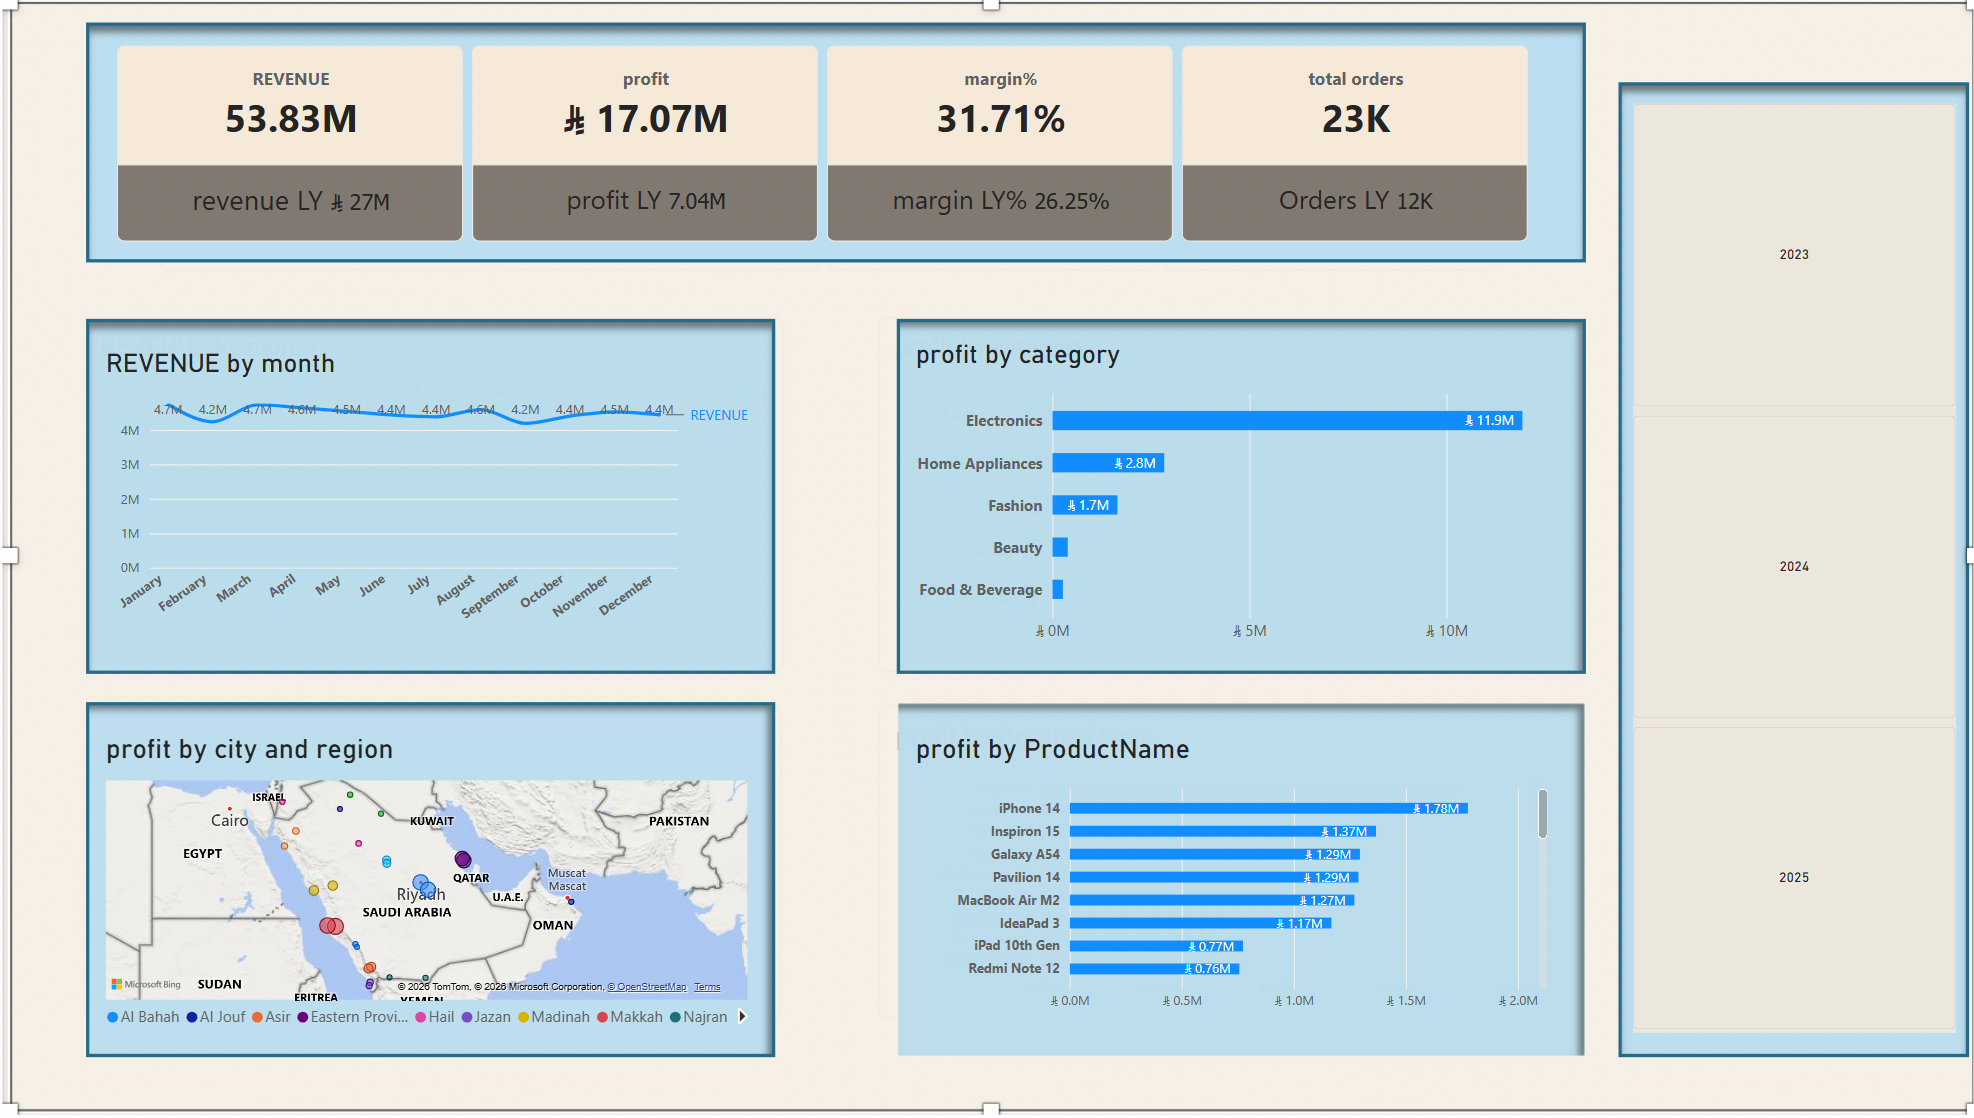

This screenshot's page, from the dashboard's own definition file:
{"tool":"powerbi","page":{"name":"Page 2","canvas":[1920,1080],"ordinal":0},"visuals":[{"type":"cardVisual","fields":{"Data":["_Measures (2).REVENUE","_Measures (2).profit","_Measures (2).margin%","_Measures (2).total ordes"]},"box":[157.4,64.7,1302.3,181.4],"z":0},{"type":"advancedSlicerVisual","fields":{"Values":["Calendar.year"]},"box":[1554.4,118.6,297.5,855.9],"z":1000},{"type":"clusteredBarChart","title":"profit by category","fields":{"Category":["DimProducts.Category"],"Y":["_Measures (2).profit"]},"box":[877.4,321.2,614,314],"z":2000},{"type":"lineChart","title":"REVENUE by month","fields":{"Category":["Calendar.month"],"Y":["_Measures (2).REVENUE"]},"box":[132.6,330.2,623.3,295.3],"z":3000},{"type":"map","title":"profit by city and region","fields":{"Category":["DimGeography.City"],"Series":["DimGeography.Region"],"Size":["_Measures (2).profit"]},"box":[132.6,683.7,623.3,307],"z":4000},{"type":"barChart","fields":{"Category":["DimProducts.ProductName"],"Y":["_Measures (2).profit"]},"box":[876.7,683.7,614,290.7],"z":5000}]}

Visuals, with their boxes in screenshot pixels (x1, y1, x2, y2):
cardVisual - _Measures (2).REVENUE x _Measures (2).profit: rect(115, 29, 1534, 227)
advancedSlicerVisual - Calendar.year: rect(1637, 88, 1962, 1021)
"profit by category" clusteredBarChart: rect(900, 309, 1569, 651)
"REVENUE by month" lineChart: rect(88, 319, 767, 641)
"profit by city and region" map: rect(88, 704, 767, 1039)
barChart - DimProducts.ProductName x _Measures (2).profit: rect(899, 704, 1568, 1021)
